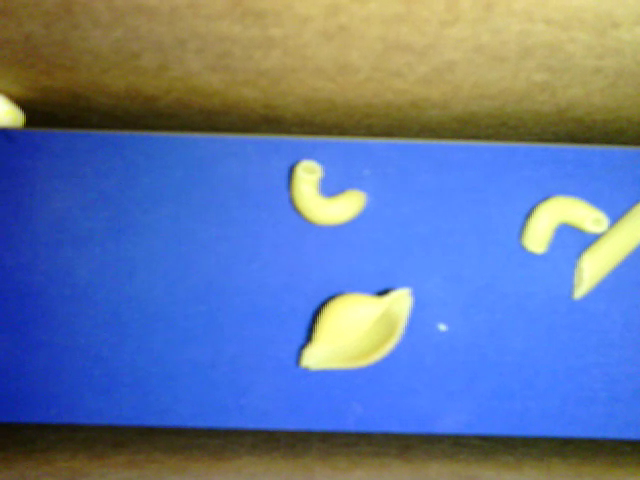elbow: (517, 193, 609, 255), (290, 158, 368, 228)
penne: (572, 200, 639, 300)
shell: (298, 286, 412, 372)
